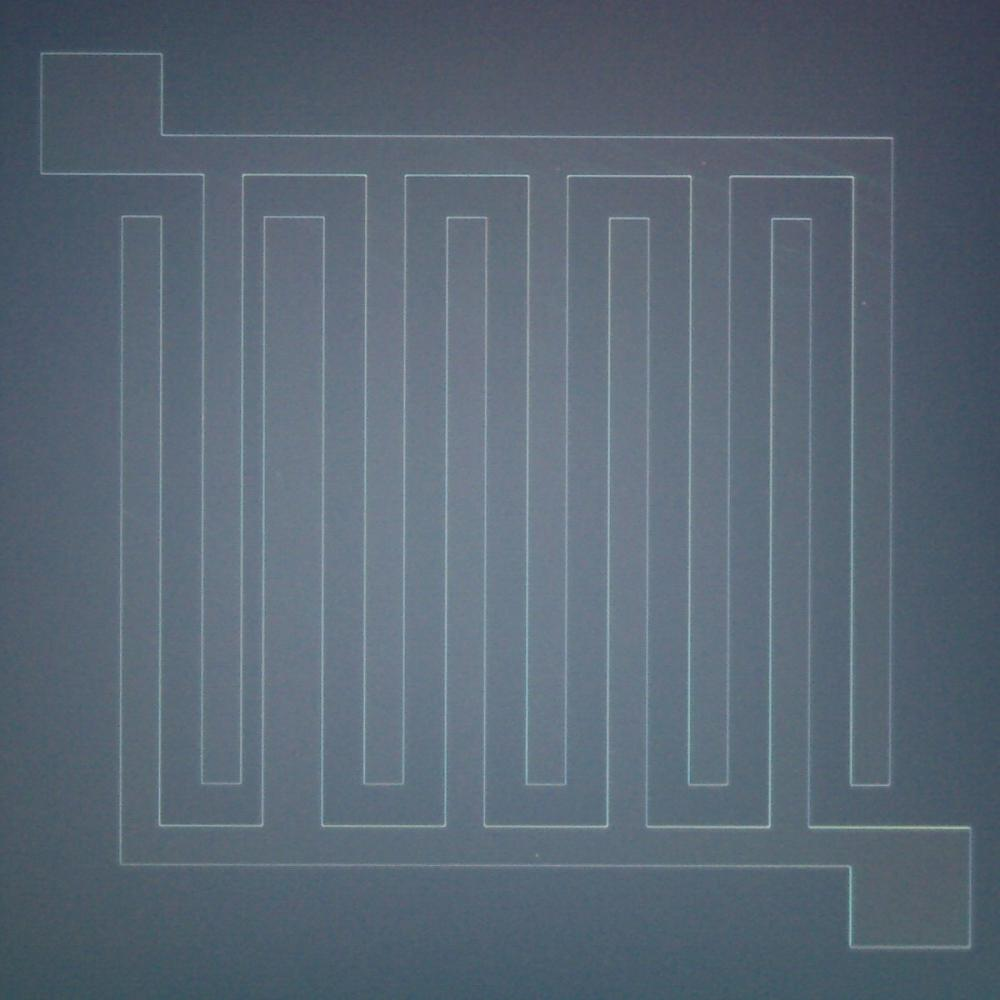dot: (701, 160, 707, 166), (555, 166, 561, 172), (861, 301, 866, 306), (534, 854, 539, 858)
